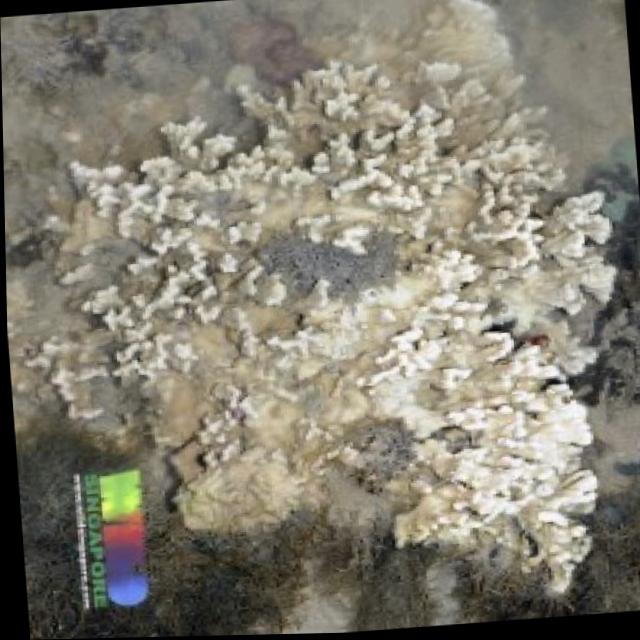Bleached Coral: (44, 31, 640, 611)
